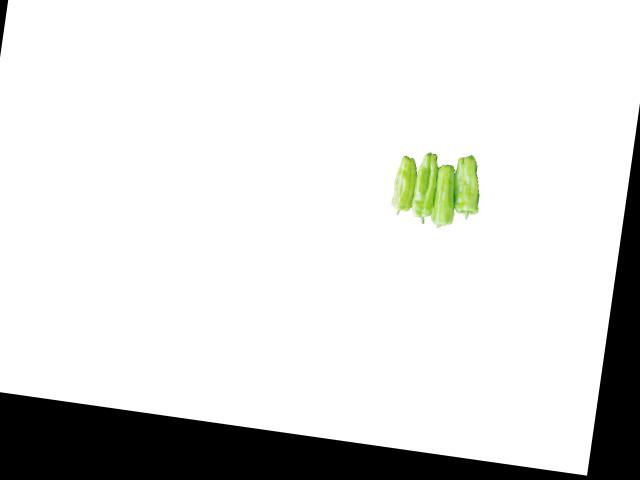bell_pepper: (448, 148, 486, 224)
